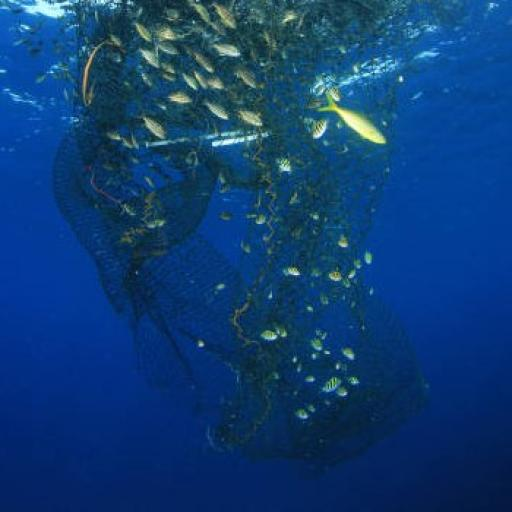net: (44, 0, 437, 468)
